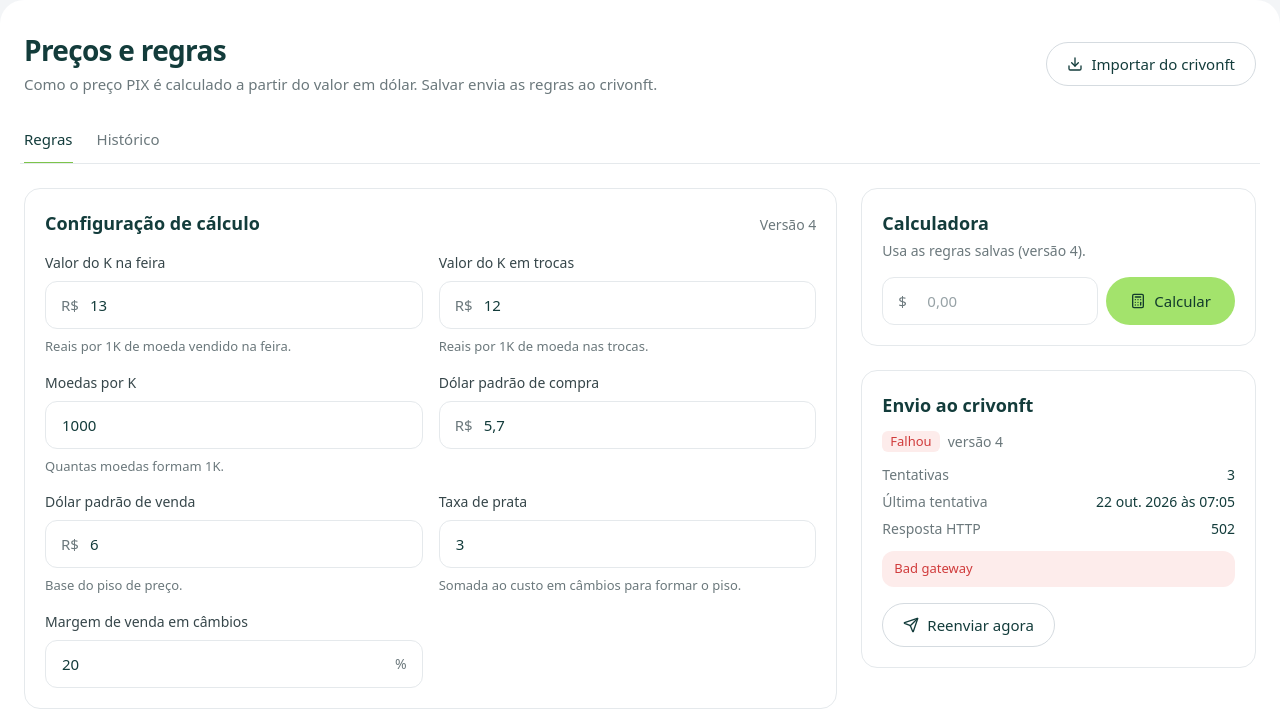
PricingView › calcula a prévia pelo endpoint
This screenshot has width=1280, height=720.
Type "12" into the field named "Preço em dólar" at (990,301), box [882,277,1098,325]
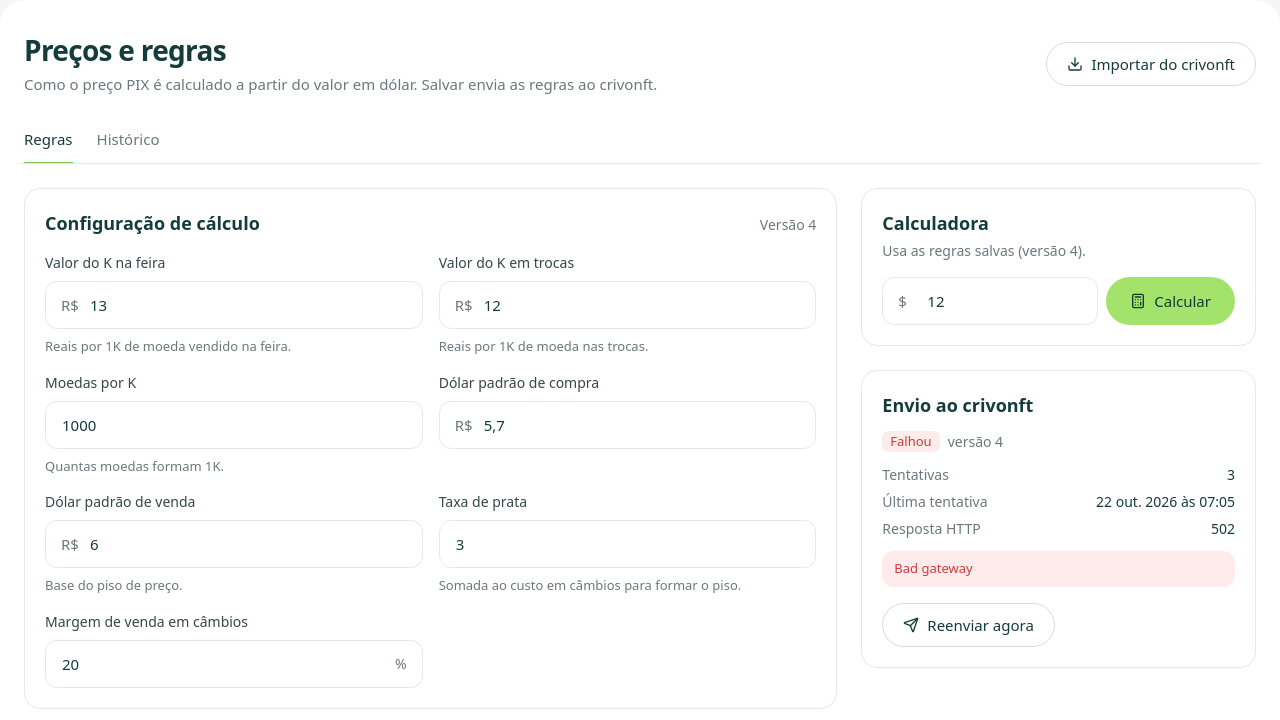
Submit the form, box [882,277,1235,325]
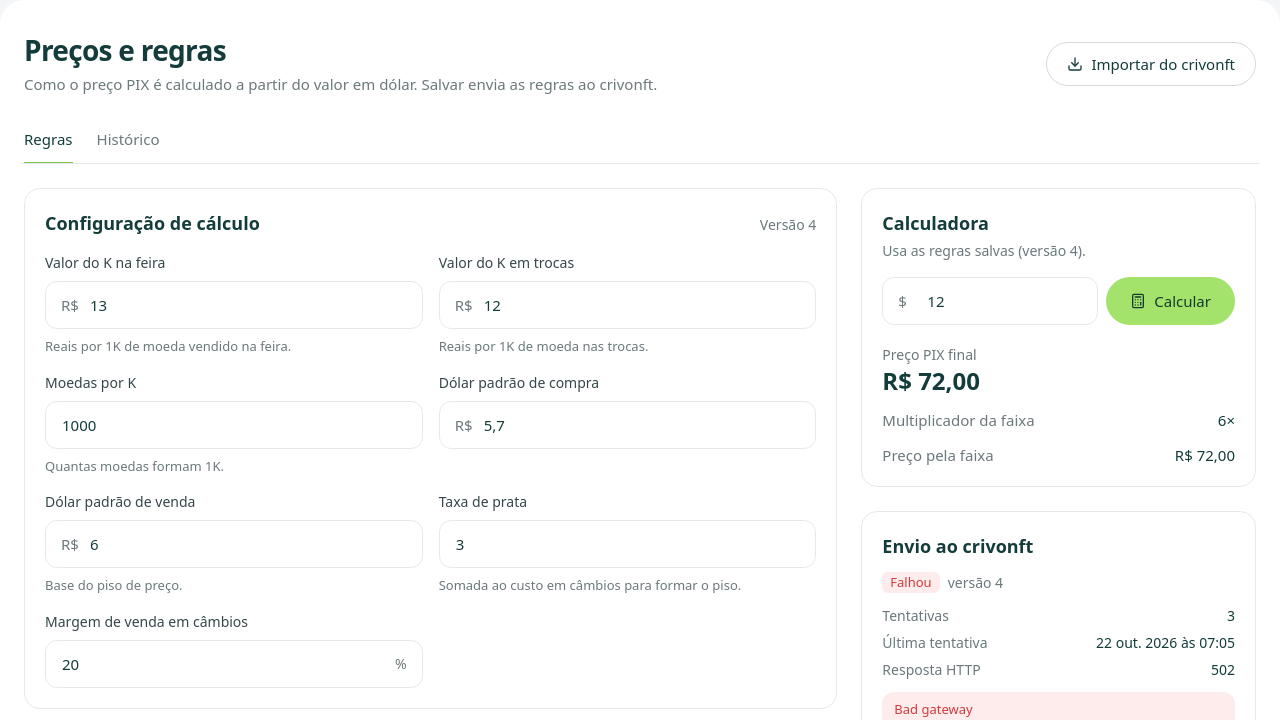
Check: the text with test id "calc-final" reads "R$ 72,00", box [882,364,980,397]
